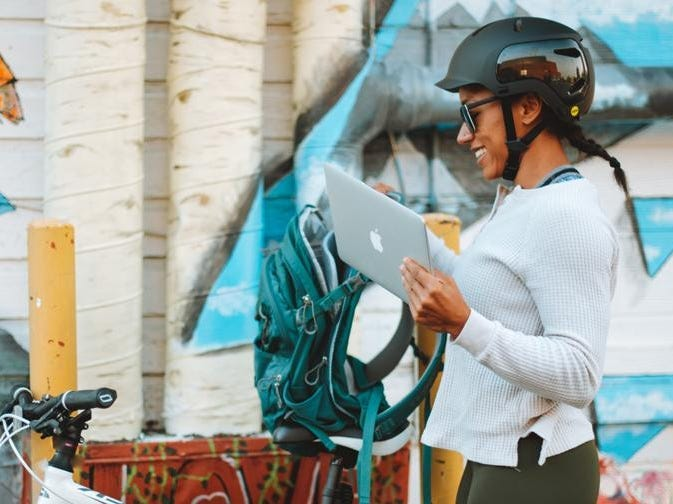helmet: (436, 17, 594, 181)
